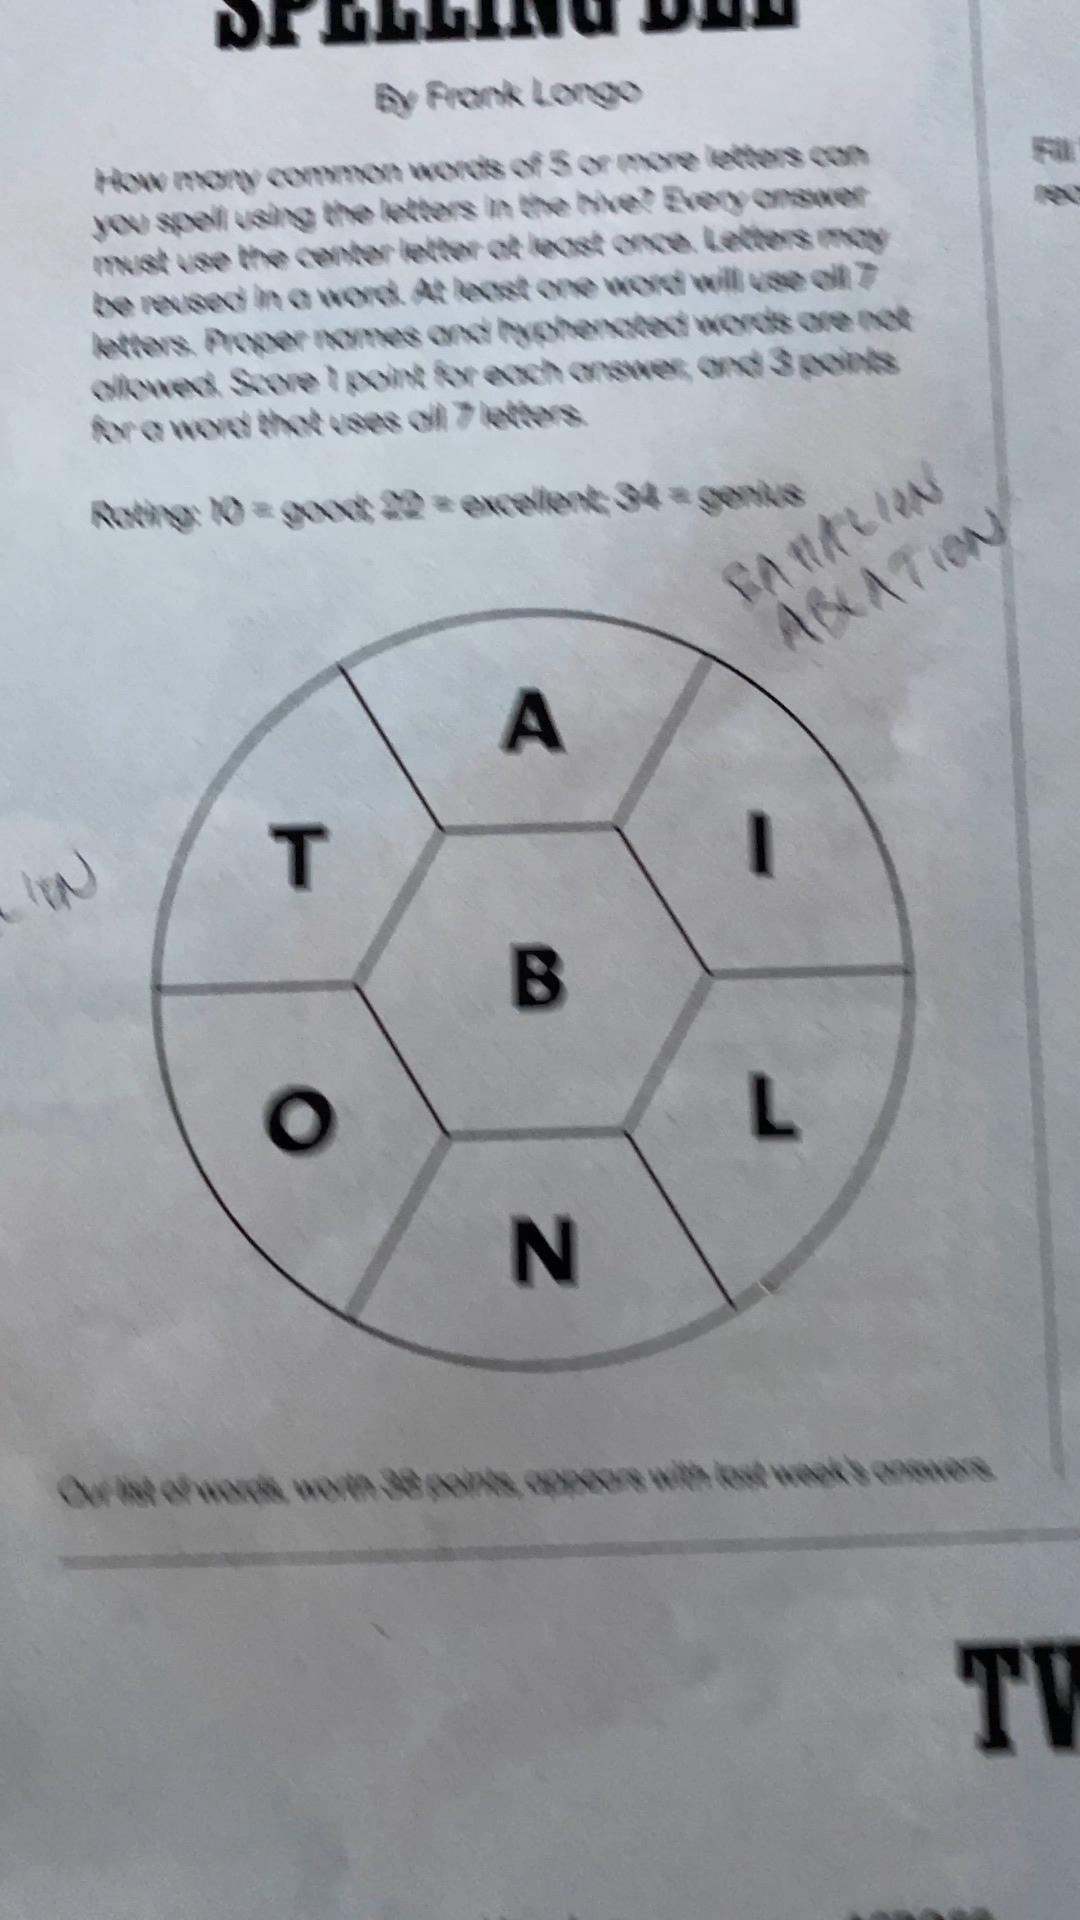PrintBoard: (123, 596, 936, 1398)
